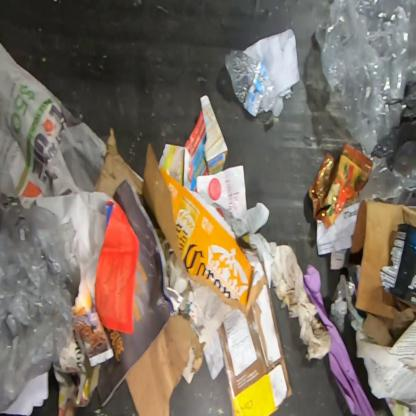cardboard: (142, 141, 257, 314), (218, 232, 293, 415), (125, 314, 204, 416), (349, 198, 415, 320), (92, 126, 144, 198)
rigid_plastic: (226, 51, 284, 119)
soft_plastic: (0, 192, 80, 415), (316, 1, 415, 158), (369, 81, 415, 172), (363, 140, 415, 211)
